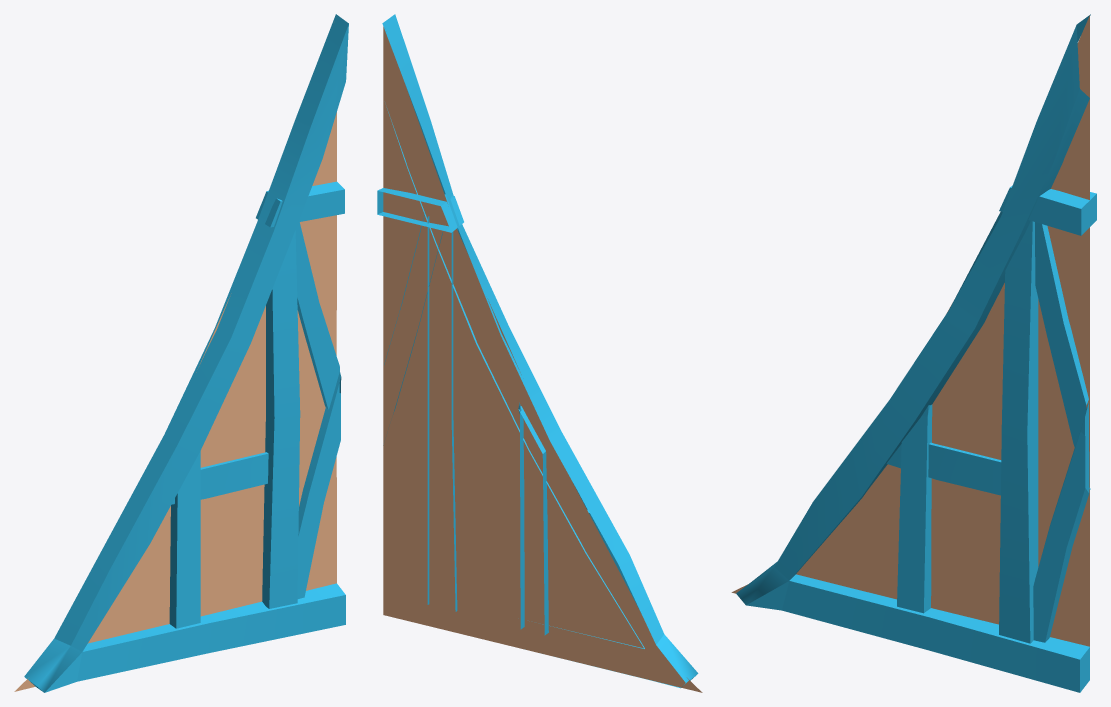
The model's file is Roof_Wall_01_half_01.fbx.
3 views of the same model, side by side, from view 1: azimuth 30°, elevation 25°; view 2: azimuth 150°, elevation 25°; view 3: azimuth 330°, elevation 25° (orthographic). The views are drawn at different scales.
Parts seen in each view (by area): view 1: Roof_Wall_01_half_01; view 2: Roof_Wall_01_half_01; view 3: Roof_Wall_01_half_01.
Part boxes in pixels (x1,y1,x2,y2): Roof_Wall_01_half_01: (14,14,348,692); Roof_Wall_01_half_01: (377,14,702,692); Roof_Wall_01_half_01: (731,14,1096,692).
Bounding box in the file's own units: 381 × 681 × 37.17.
